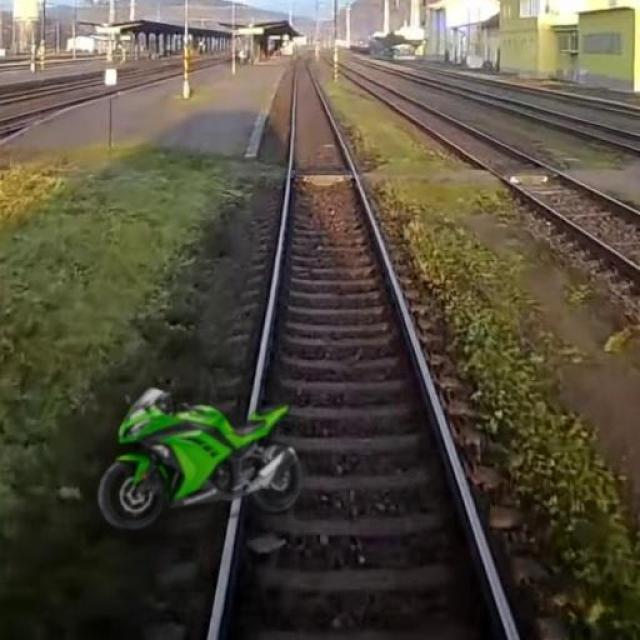vehicle: (96, 378, 308, 527)
